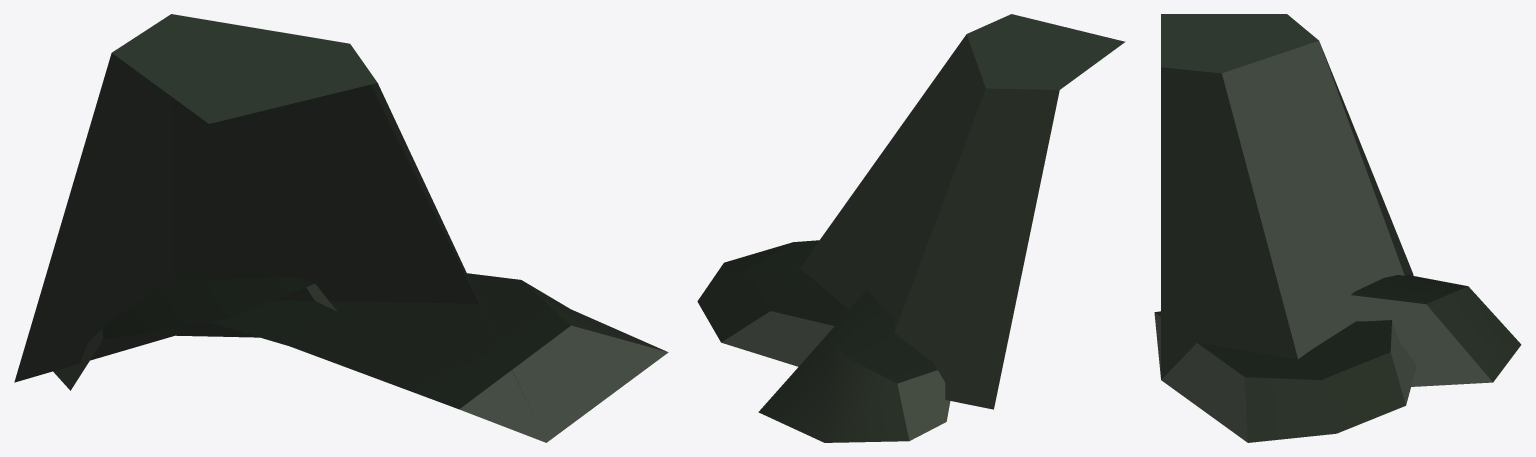
File: SF_Env_MudEdge_Corner_02.glb
The picture shows the model from 3 angles, left to right: view 1: azimuth 30°, elevation 25°; view 2: azimuth 150°, elevation 25°; view 3: azimuth 270°, elevation 25°; orthographic projection. The views are drawn at different scales.
Visible parts, largest first — view 1: SF_Env_MudEdge_Corner_02; view 2: SF_Env_MudEdge_Corner_02; view 3: SF_Env_MudEdge_Corner_02.
Boxes of the visible parts, x1,y1,x2,y2 form: SF_Env_MudEdge_Corner_02: (14, 14, 668, 442); SF_Env_MudEdge_Corner_02: (697, 14, 1125, 442); SF_Env_MudEdge_Corner_02: (1154, 14, 1521, 442).
Size of the model in its own units: 0.0781 by 0.0609 by 0.0728.
1 material, 1 textured.
